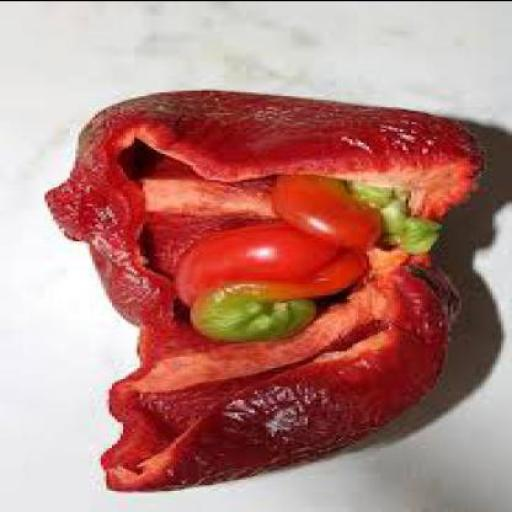biodegradable: (42, 88, 484, 489), (171, 222, 366, 342), (266, 169, 439, 249)
